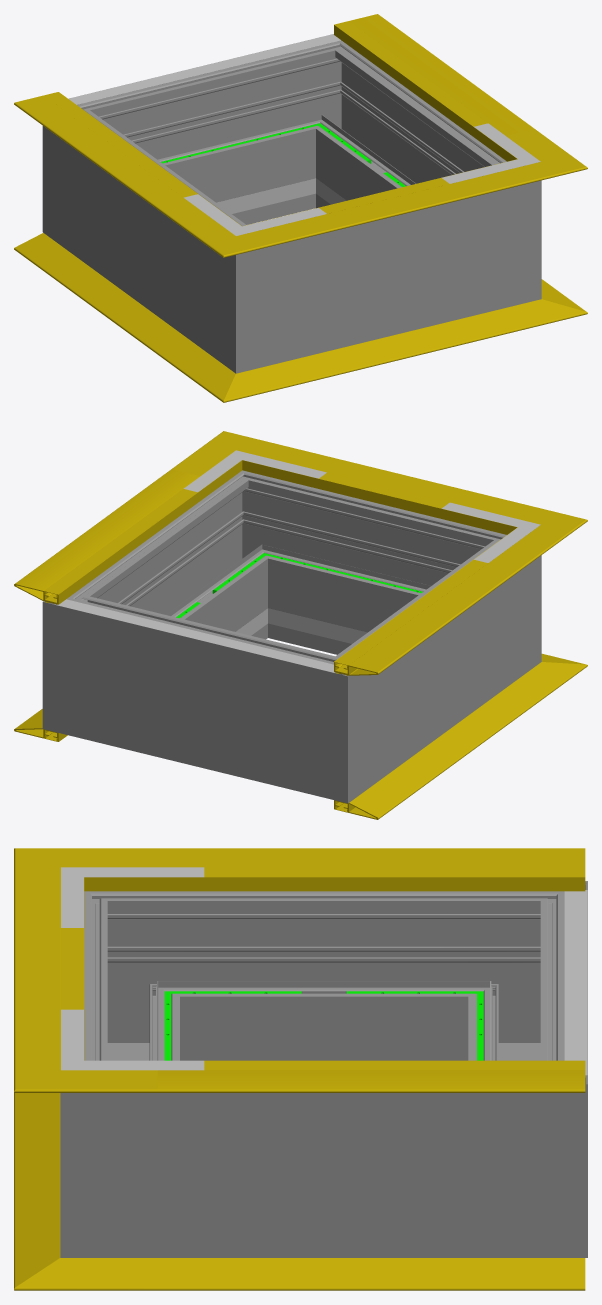
3 renders of one model, top to bottom at view 1: azimuth 30°, elevation 25°; view 2: azimuth 150°, elevation 25°; view 3: azimuth 270°, elevation 25°, orthographic. The views are drawn at different scales.
Parts seen in each view (by area): view 1: 3DGeom-270, 3DGeom-276, 3DGeom-298, 3DGeom-290, 3DGeom-284, 3DGeom-268, 3DGeom-297, 3DGeom-278, 3DGeom-145, 3DGeom-38, 3DGeom-147, 3DGeom-28 (+12 smaller); view 2: 3DGeom-278, 3DGeom-276, 3DGeom-298, 3DGeom-284, 3DGeom-290, 3DGeom-297, 3DGeom-268, 3DGeom-270, 3DGeom-145, 3DGeom-38, 3DGeom-147, 3DGeom-141 (+11 smaller); view 3: 3DGeom-268, 3DGeom-297, 3DGeom-284, 3DGeom-290, 3DGeom-278, 3DGeom-270, 3DGeom-147, 3DGeom-30, 3DGeom-145, 3DGeom-33, 3DGeom-149, 3DGeom-141 (+11 smaller).
Boxes of the visible parts, <box> form: 3DGeom-270: <box>183,200,326,373</box>; 3DGeom-276: <box>136,53,300,224</box>; 3DGeom-298: <box>327,203,450,351</box>; 3DGeom-290: <box>450,137,541,321</box>; 3DGeom-284: <box>259,34,385,211</box>; 3DGeom-268: <box>95,136,212,334</box>; 3DGeom-297: <box>324,72,473,205</box>; 3DGeom-278: <box>42,84,177,270</box>; 3DGeom-145: <box>334,14,534,149</box>; 3DGeom-38: <box>14,233,199,363</box>; 3DGeom-147: <box>14,92,213,218</box>; 3DGeom-28: <box>298,314,496,380</box>; 3DGeom-278: <box>257,630,400,803</box>; 3DGeom-276: <box>133,611,273,781</box>; 3DGeom-298: <box>283,489,441,654</box>; 3DGeom-284: <box>42,567,150,750</box>; 3DGeom-290: <box>198,470,318,641</box>; 3DGeom-297: <box>110,502,259,637</box>; 3DGeom-268: <box>371,566,488,764</box>; 3DGeom-270: <box>406,519,541,699</box>; 3DGeom-145: <box>14,469,215,604</box>; 3DGeom-38: <box>334,688,535,819</box>; 3DGeom-147: <box>334,547,535,675</box>; 3DGeom-141: <box>289,453,495,525</box>; 3DGeom-268: <box>204,891,444,1060</box>; 3DGeom-297: <box>204,1093,444,1257</box>; 3DGeom-284: <box>444,1024,587,1257</box>; 3DGeom-290: <box>60,1024,203,1257</box>; 3DGeom-278: <box>444,881,587,1060</box>; 3DGeom-270: <box>84,891,203,1060</box>; 3DGeom-147: <box>157,848,585,891</box>; 3DGeom-30: <box>157,1258,585,1290</box>; 3DGeom-145: <box>157,1070,585,1092</box>; 3DGeom-33: <box>14,1217,157,1290</box>; 3DGeom-149: <box>14,848,157,908</box>; 3DGeom-141: <box>14,908,84,1030</box>.
Size of the model in its own units: 0.6096 by 0.2357 by 0.6096.
